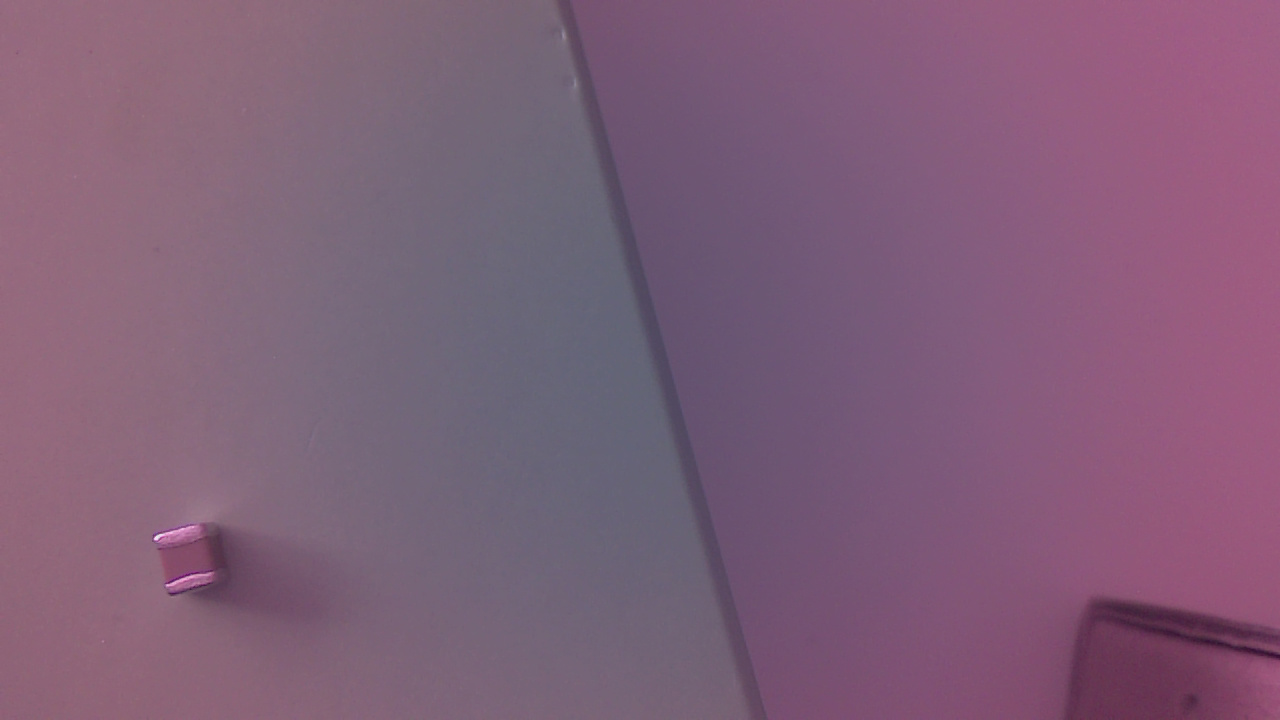Condensator: (154, 522, 238, 600)
